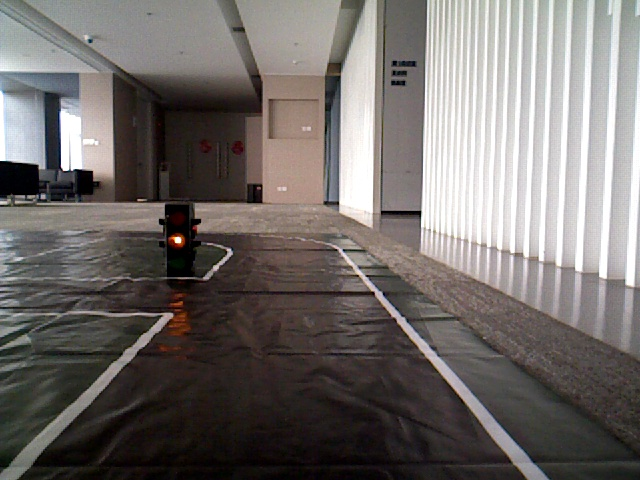yellow: (163, 206, 192, 265)
